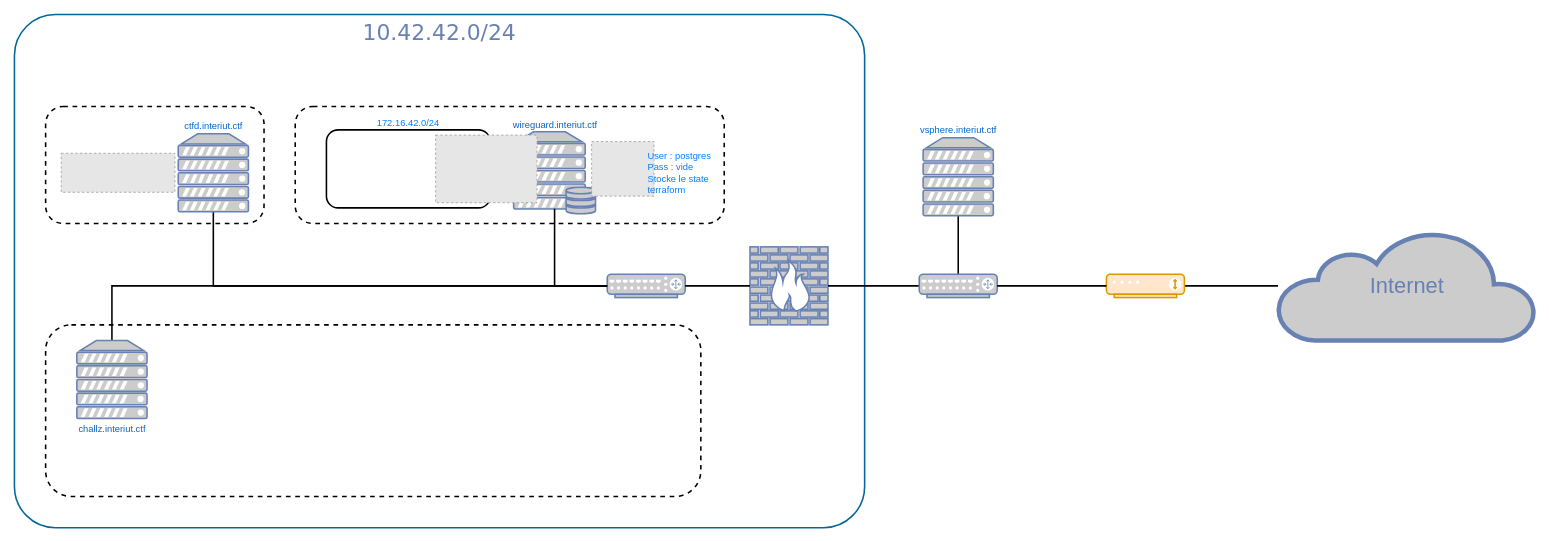
Some shapes in this 1549 by 541 pixel diagram are drawn without their labels. Grey dashed boxes stand in for pictures. Each missing label, with the centre of its shape:
Livebox sale pute: point 1145,285
pfsense.interiut.ctf: point 788,285
vswitch host: point 958,285
vswitch interiut: point 646,285
